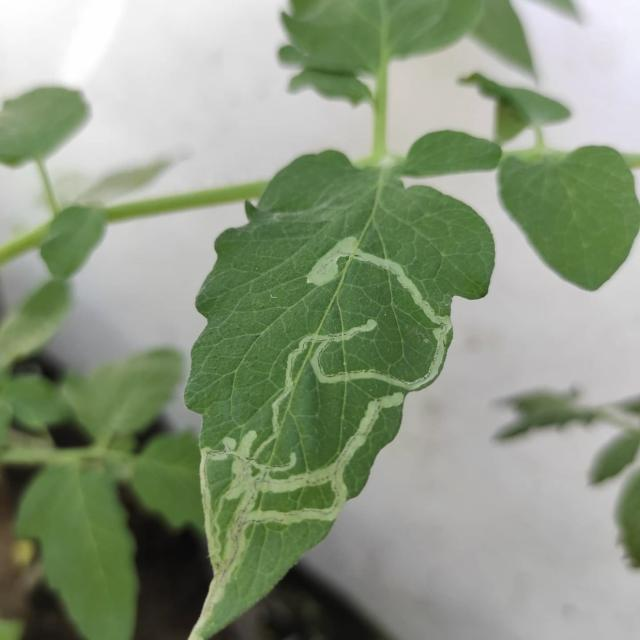Healthy: (498, 140, 640, 292)
